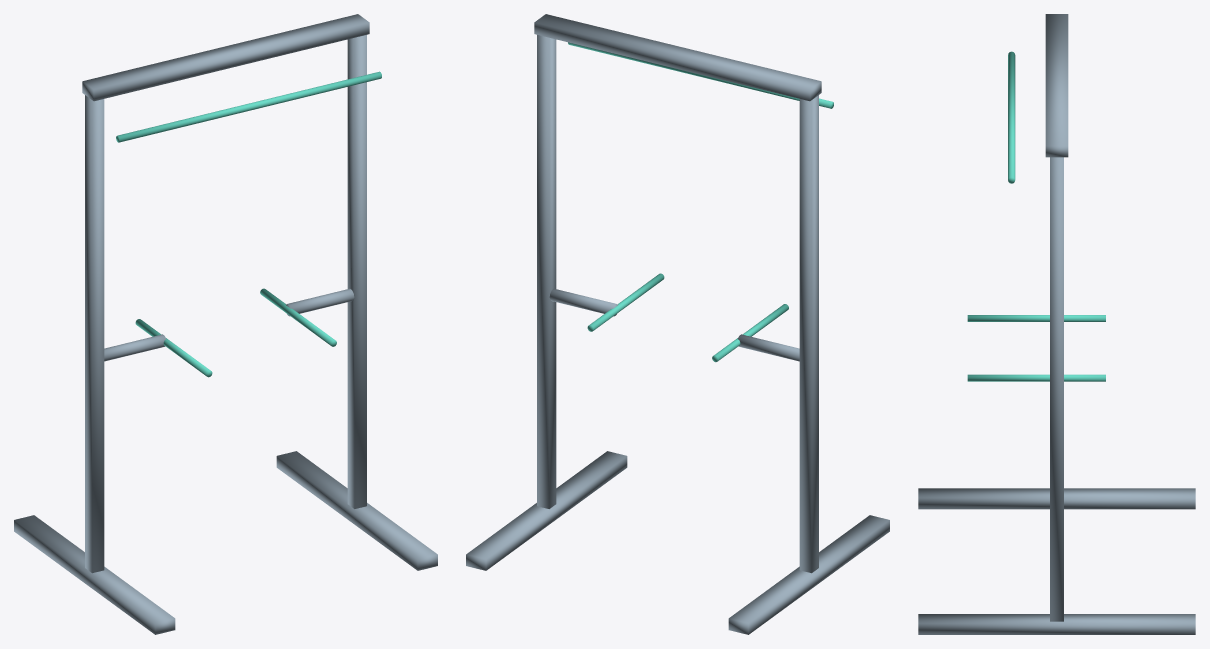
The model's file is pullup_dip_station.glb.
3 views of the same model, side by side, from view 1: azimuth 30°, elevation 25°; view 2: azimuth 150°, elevation 25°; view 3: azimuth 270°, elevation 25° (orthographic).
Parts seen in each view (by area): view 1: frame, top_bar, dip_link_L, dip_link_R, dip_bar_L, dip_bar_R; view 2: frame, dip_link_L, dip_link_R, top_bar, dip_bar_L, dip_bar_R; view 3: frame, top_bar, dip_bar_L, dip_bar_R.
Boxes of the visible parts, <box> form: frame: <box>14,14,437,634</box>; top_bar: <box>116,71,381,142</box>; dip_link_L: <box>286,288,354,316</box>; dip_link_R: <box>104,334,165,361</box>; dip_bar_L: <box>260,288,336,346</box>; dip_bar_R: <box>135,319,212,377</box>; frame: <box>466,14,889,634</box>; dip_link_L: <box>549,288,617,316</box>; dip_link_R: <box>738,334,799,361</box>; top_bar: <box>568,42,833,108</box>; dip_bar_L: <box>587,273,664,331</box>; dip_bar_R: <box>712,304,788,362</box>; frame: <box>918,14,1195,634</box>; top_bar: <box>1008,51,1015,183</box>; dip_bar_L: <box>967,374,1105,381</box>; dip_bar_R: <box>967,315,1105,321</box>.
Bounding box in the file's own units: 1.27 × 2.13 × 1.1.
